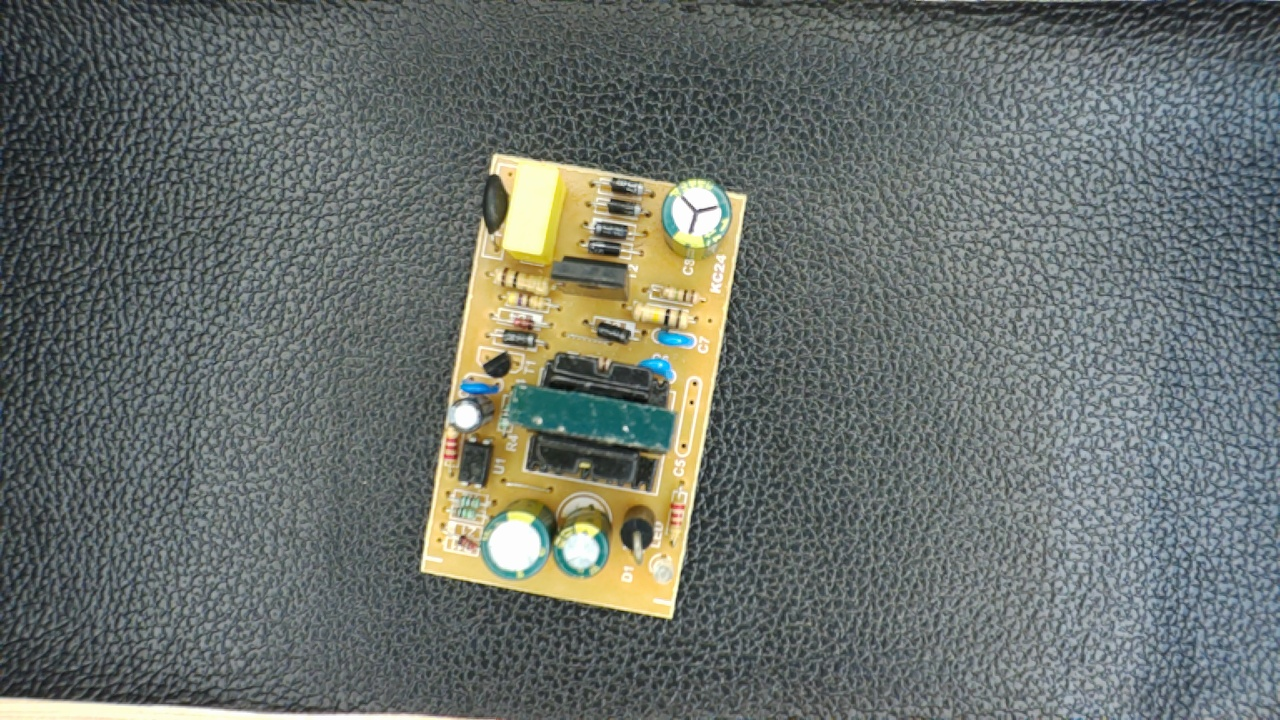fuse: (477, 162, 515, 249)
hv_capacitor: (659, 176, 737, 261)
optocoupler: (456, 428, 501, 494)
